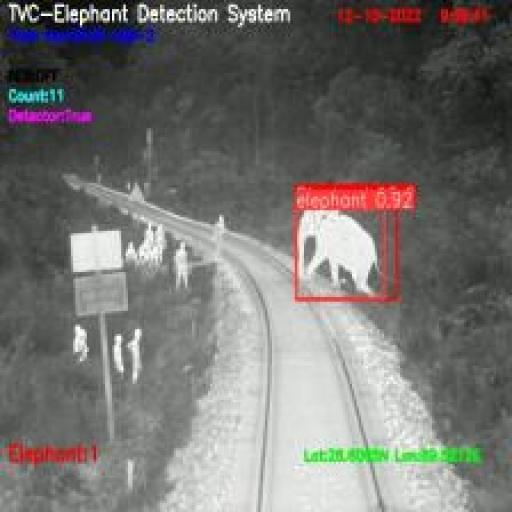Elephant: (297, 208, 385, 298)
